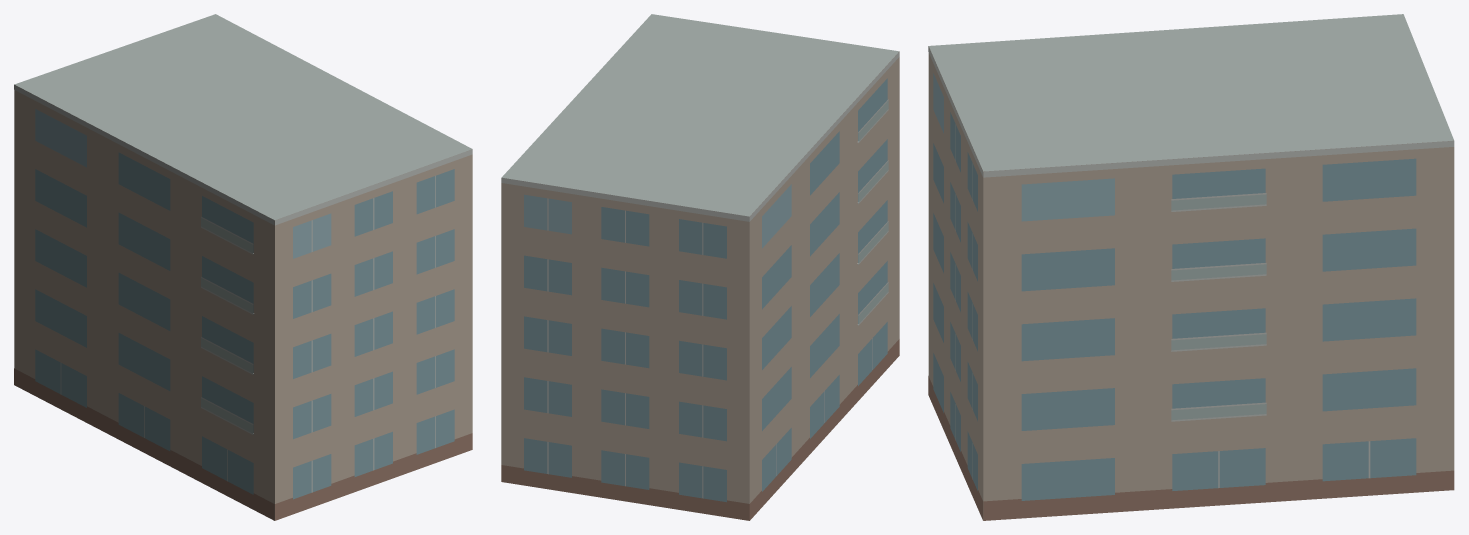
The model's file is survey-upis-32762844.glb.
3 views of the same model, side by side, from view 1: azimuth 30°, elevation 25°; view 2: azimuth 150°, elevation 25°; view 3: azimuth 270°, elevation 25° (orthographic). The views are drawn at different scales.
Parts seen in each view (by area): view 1: survey-upis-32762844.tmp; view 2: survey-upis-32762844.tmp; view 3: survey-upis-32762844.tmp.
Part boxes in pixels (x1,y1,x2,y2): survey-upis-32762844.tmp: (14, 14, 472, 520); survey-upis-32762844.tmp: (501, 14, 899, 520); survey-upis-32762844.tmp: (928, 14, 1454, 520).
Size of the model in its own units: 13.45 by 13.9 by 18.97.
